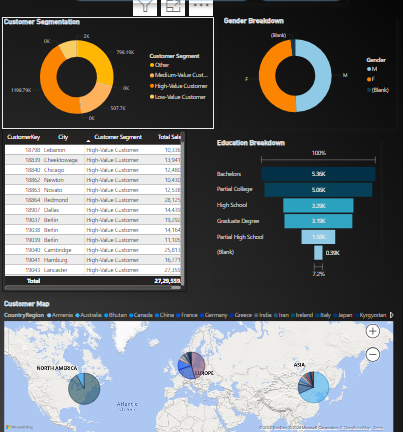

What the dashboard file says about the page in this screenshot:
{"tool":"powerbi","page":{"name":"Customer Insights","canvas":[1000,1200],"ordinal":1},"visuals":[{"type":"tableEx","fields":{"Values":["Customer.CustomerKey","Customer.City","Customer.Customer Segment","Sales.Total Sales"]},"box":[26.4,465.6,444,391.2],"z":0},{"type":"pieChart","title":"Customer Segmentation","fields":{"Category":["Customer.Customer Segment"],"Y":["Sales.Total Customers","Sales.Total Sales"]},"box":[26.4,196.8,508.8,268.8],"z":1000},{"type":"funnel","title":"Education Breakdown","fields":{"Category":["Customer.Education"],"Y":["CountNonNull(Customer.CustomerKey)"]},"box":[537.5,487.5,395,342.5],"z":2000},{"type":"donutChart","title":"Gender Breakdown","fields":{"Category":["Customer.Gender"],"Y":["CountNonNull(Customer.CustomerKey)"]},"box":[555,195,417.5,267.5],"z":3000},{"type":"map","title":"Customer Map","fields":{"Category":["Store.City"],"Size":["Sales.Total Sales"],"Series":["Customer.CountryRegion"]},"box":[27.5,872.5,945,327.5],"z":4000},{"type":"pageNavigator","box":[191.7,113.3,660,50],"z":5000},{"type":"textbox","box":[26.7,36.7,510,83.3],"z":8000}]}

Visuals, with their boxes on the page's 1000x1200 design canvas (x1, y1, x2, y2). These are canvas units, not pixel positions in the 403x432 screenshot, which may show the page scaled, cropped or inside an application window:
tableEx - Customer.CustomerKey x Customer.City: 26 466 470 857
"Customer Segmentation" pieChart: 26 197 535 466
"Education Breakdown" funnel: 538 488 932 830
"Gender Breakdown" donutChart: 555 195 972 462
"Customer Map" map: 28 872 972 1200
pageNavigator: 192 113 852 163
textbox: 27 37 537 120
